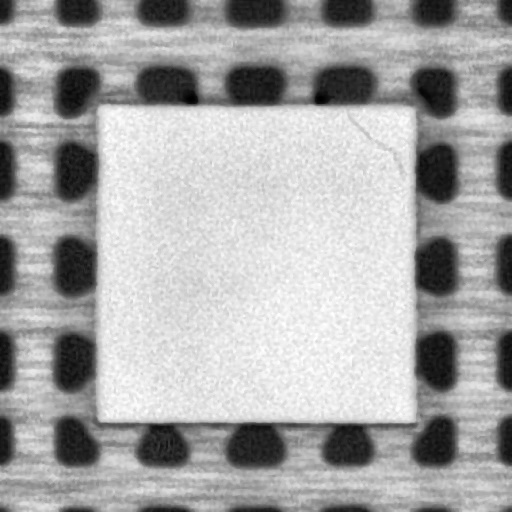DIE_CRACK: (342, 110, 404, 166)
